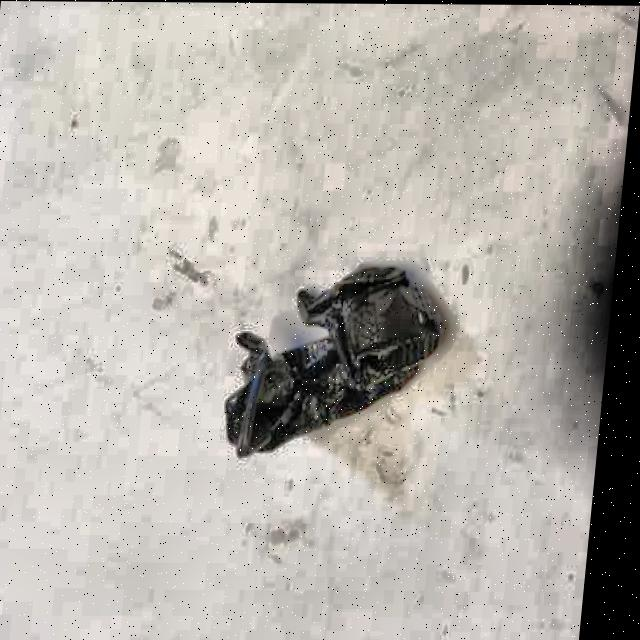plastic: (210, 260, 456, 470)
